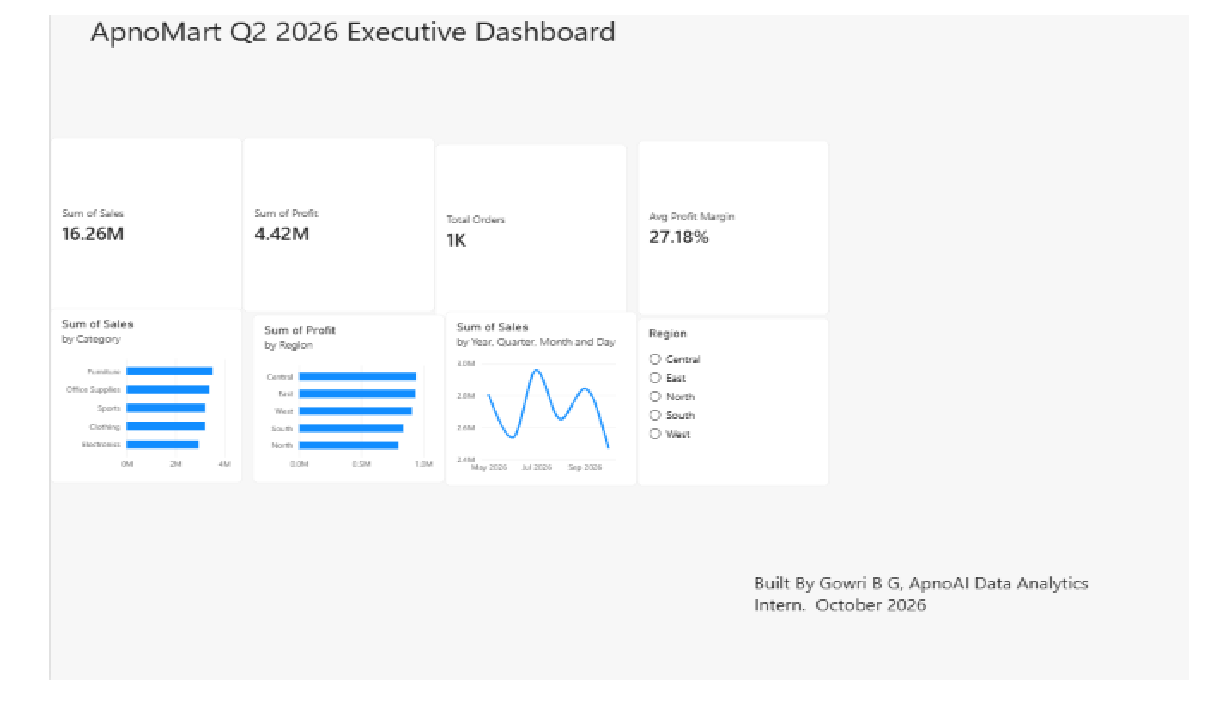

The dashboard page shown, as its layout file describes it:
{"tool":"powerbi","page":{"name":"Page 1","canvas":[1920,1080],"ordinal":0},"visuals":[{"type":"cardVisual","fields":{"Data":["Sum(apnomart-sales-data.Sales)"]},"box":[0,202.5,280,280],"z":0},{"type":"cardVisual","fields":{"Data":["Sum(apnomart-sales-data.Profit)"]},"box":[280,202.5,280,280],"z":1000},{"type":"cardVisual","fields":{"Data":["apnomart-sales-data.Total Orders"]},"box":[560,212.5,280,280],"z":2000},{"type":"cardVisual","fields":{"Data":["apnomart-sales-data.Avg Profit Margin"]},"box":[855,207.5,280,280],"z":3000},{"type":"clusteredBarChart","fields":{"Category":["apnomart-sales-data.Category"],"Y":["Sum(apnomart-sales-data.Sales)"]},"box":[0,477.5,280,280],"z":4000},{"type":"lineChart","fields":{"Category":["apnomart-sales-data.Month.Variation.Date Hierarchy.Year","apnomart-sales-data.Month.Variation.Date Hierarchy.Quarter","apnomart-sales-data.Month.Variation.Date Hierarchy.Month","apnomart-sales-data.Month.Variation.Date Hierarchy.Day"],"Y":["Sum(apnomart-sales-data.Sales)"]},"box":[575,482.5,280,280],"z":5000},{"type":"clusteredBarChart","fields":{"Category":["apnomart-sales-data.Region"],"Y":["Sum(apnomart-sales-data.Profit)"]},"box":[295,487.5,280,270],"z":6000},{"type":"listSlicer","fields":{"Values":["apnomart-sales-data.Region"]},"box":[855,492.5,280,270],"z":7000},{"type":"textbox","box":[295,588,280,280],"z":8000},{"type":"textbox","box":[295,878,280,202],"z":9000},{"type":"textbox","box":[1025,842.5,497.5,35],"z":10000},{"type":"textbox","box":[575,588,280,280],"z":11000},{"type":"textbox","box":[575,878,280,202],"z":12000},{"type":"textbox","box":[1025,900,545,127.5],"z":13000},{"type":"textbox","box":[0,0,1135,145],"z":14000}]}

Visuals, with their boxes on the page's 1920x1080 design canvas (x1, y1, x2, y2). These are canvas units, not pixel positions in the 1232x719 screenshot, which may show the page scaled, cropped or inside an application window:
cardVisual - Sum(apnomart-sales-data.Sales): 0, 202, 280, 482
cardVisual - Sum(apnomart-sales-data.Profit): 280, 202, 560, 482
cardVisual - apnomart-sales-data.Total Orders: 560, 212, 840, 492
cardVisual - apnomart-sales-data.Avg Profit Margin: 855, 208, 1135, 488
clusteredBarChart - apnomart-sales-data.Category x Sum(apnomart-sales-data.Sales): 0, 478, 280, 758
lineChart - apnomart-sales-data.Month.Variation.Date Hierarchy.Year x apnomart-sales-data.Month.Variation.Date Hierarchy.Quarter: 575, 482, 855, 762
clusteredBarChart - apnomart-sales-data.Region x Sum(apnomart-sales-data.Profit): 295, 488, 575, 758
listSlicer - apnomart-sales-data.Region: 855, 492, 1135, 762
textbox: 295, 588, 575, 868
textbox: 295, 878, 575, 1080
textbox: 1025, 842, 1522, 878
textbox: 575, 588, 855, 868
textbox: 575, 878, 855, 1080
textbox: 1025, 900, 1570, 1028
textbox: 0, 0, 1135, 145
